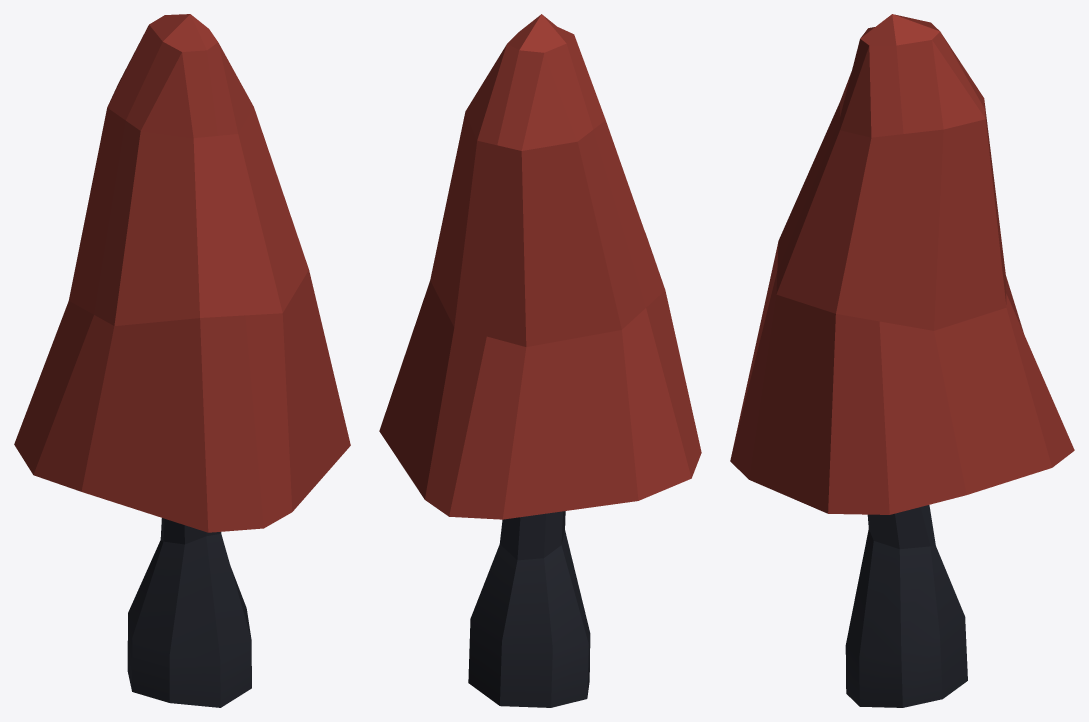
Rendered from Mushroom4.fbx.
3 renders of one model, left to right at view 1: azimuth 30°, elevation 25°; view 2: azimuth 150°, elevation 25°; view 3: azimuth 270°, elevation 25°, orthographic.
Visible parts, largest first — view 1: Mushroom4; view 2: Mushroom4; view 3: Mushroom4.
Boxes of the visible parts, bbox=[...] form: Mushroom4: bbox=[14, 14, 350, 707]; Mushroom4: bbox=[379, 14, 701, 707]; Mushroom4: bbox=[730, 14, 1074, 707].
Bounding box in the file's own units: 1.09 × 2.35 × 1.08.
